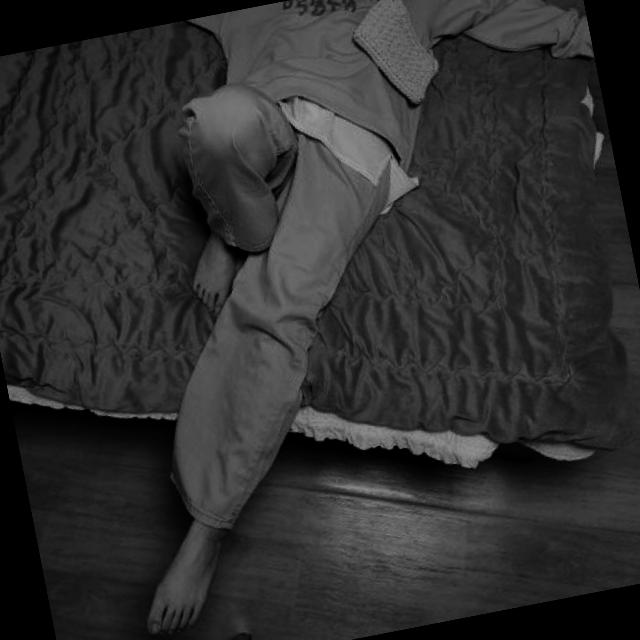mtm: (87, 60, 453, 542), (123, 0, 608, 214)
